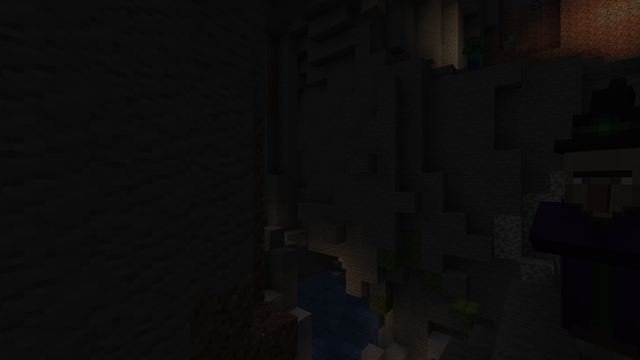sorcieres: (559, 140, 636, 359)
zombies: (465, 35, 480, 70), (508, 33, 517, 54)
